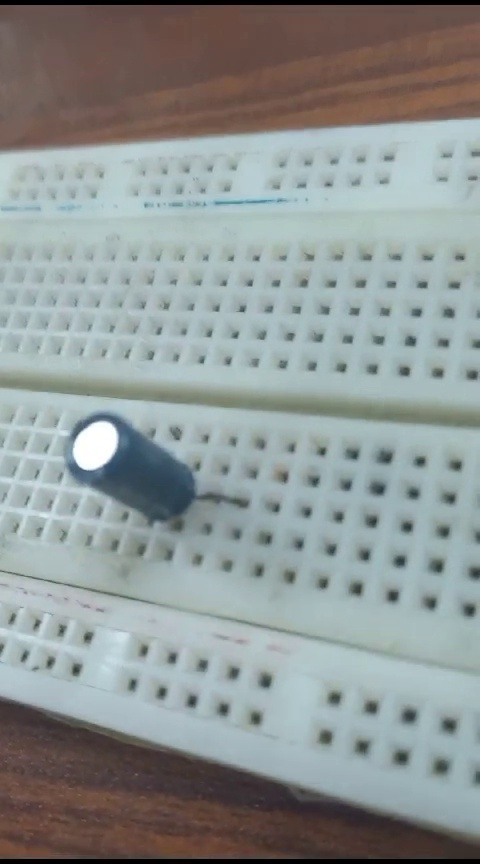capacitor: (62, 408, 221, 527)
